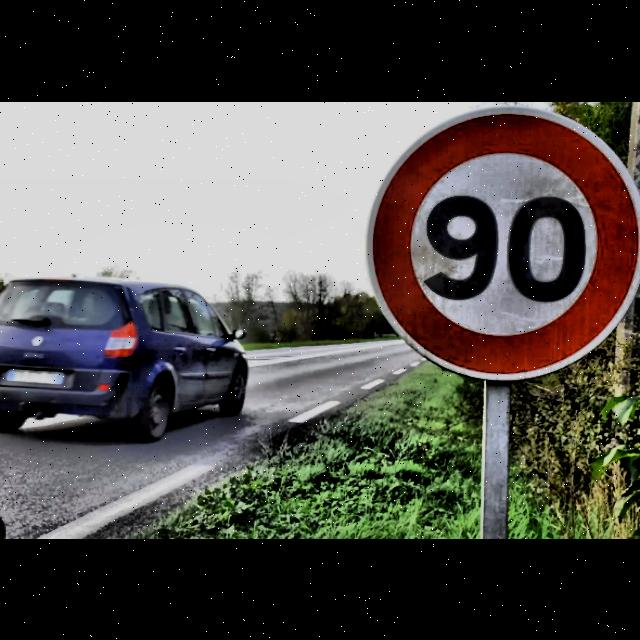speed_90: (366, 105, 640, 382)
